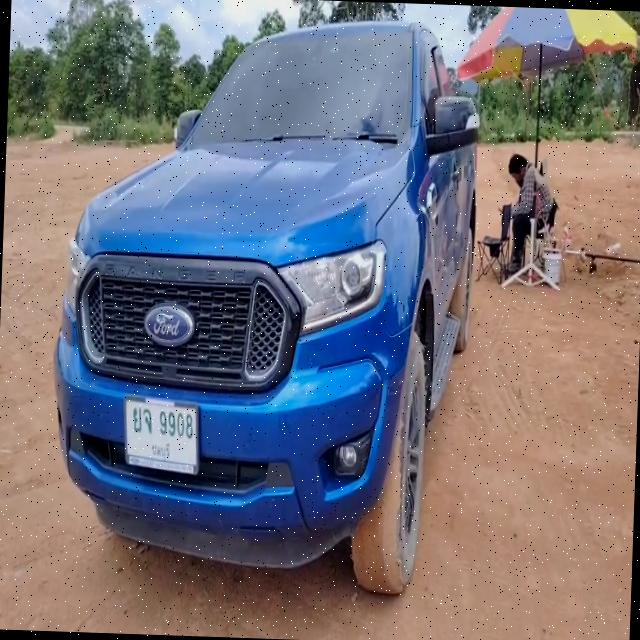Digit: (158, 408, 195, 440)
Licenseplate: (125, 398, 198, 470)
Provincename: (150, 441, 171, 461)
Thaichar: (132, 406, 153, 434)
